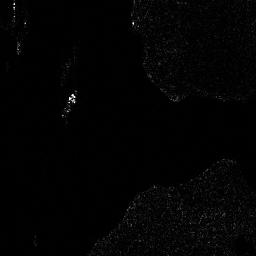ship: (61, 89, 77, 117)
